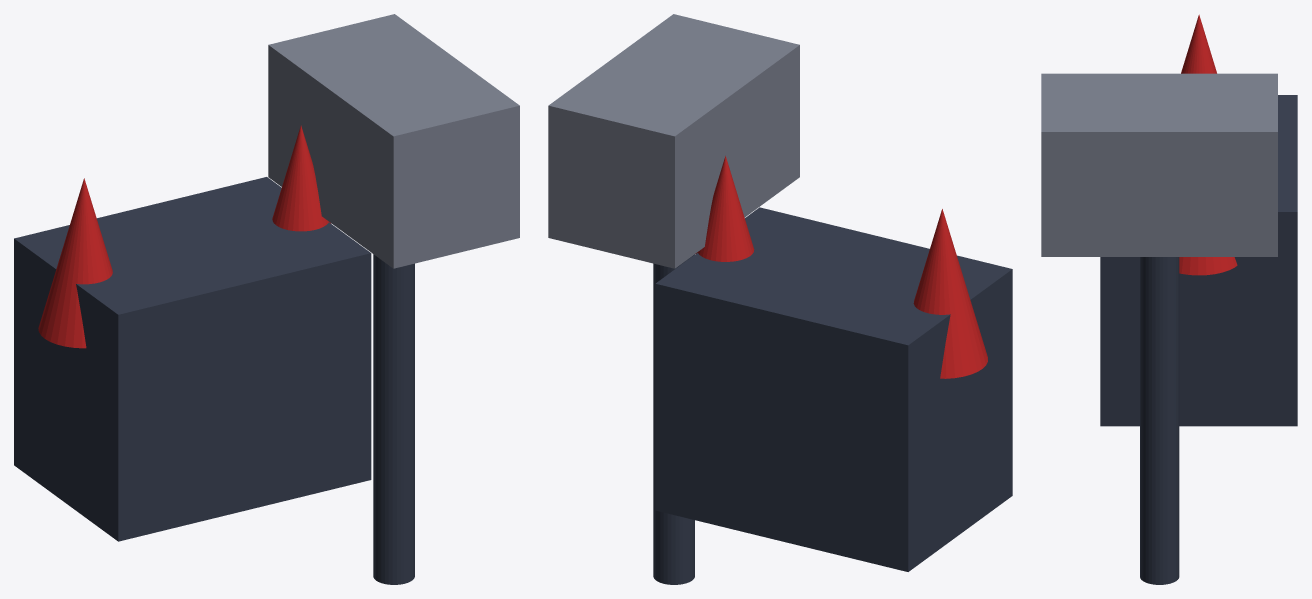
The model's file is hammer_brute.obj.
3 views of the same model, side by side, from view 1: azimuth 30°, elevation 25°; view 2: azimuth 150°, elevation 25°; view 3: azimuth 270°, elevation 25° (orthographic). The views are drawn at different scales.
Visible parts, largest first — view 1: Cube, Cube.001, Cylinder, Cone, Cone.001; view 2: Cube, Cube.001, Cone, Cylinder, Cone.001; view 3: Cube.001, Cube, Cylinder, Cone, Cone.001.
Boxes of the visible parts, x1=… form: Cube: x1=14, y1=177, x2=371, y2=541; Cube.001: x1=268, y1=14, x2=519, y2=268; Cylinder: x1=373, y1=254, x2=414, y2=584; Cone: x1=38, y1=178, x2=112, y2=348; Cone.001: x1=272, y1=125, x2=330, y2=231; Cube: x1=655, y1=207, x2=1012, y2=571; Cube.001: x1=548, y1=14, x2=799, y2=268; Cone: x1=913, y1=209, x2=987, y2=378; Cylinder: x1=653, y1=254, x2=694, y2=584; Cone.001: x1=695, y1=156, x2=754, y2=261; Cube.001: x1=1041, y1=73, x2=1277, y2=256; Cube: x1=1100, y1=95, x2=1297, y2=426; Cylinder: x1=1140, y1=257, x2=1179, y2=584; Cone: x1=1181, y1=14, x2=1216, y2=73; Cone.001: x1=1179, y1=257, x2=1237, y2=275.
Bounding box in the file's own units: 2.17 × 2.65 × 1.3.
